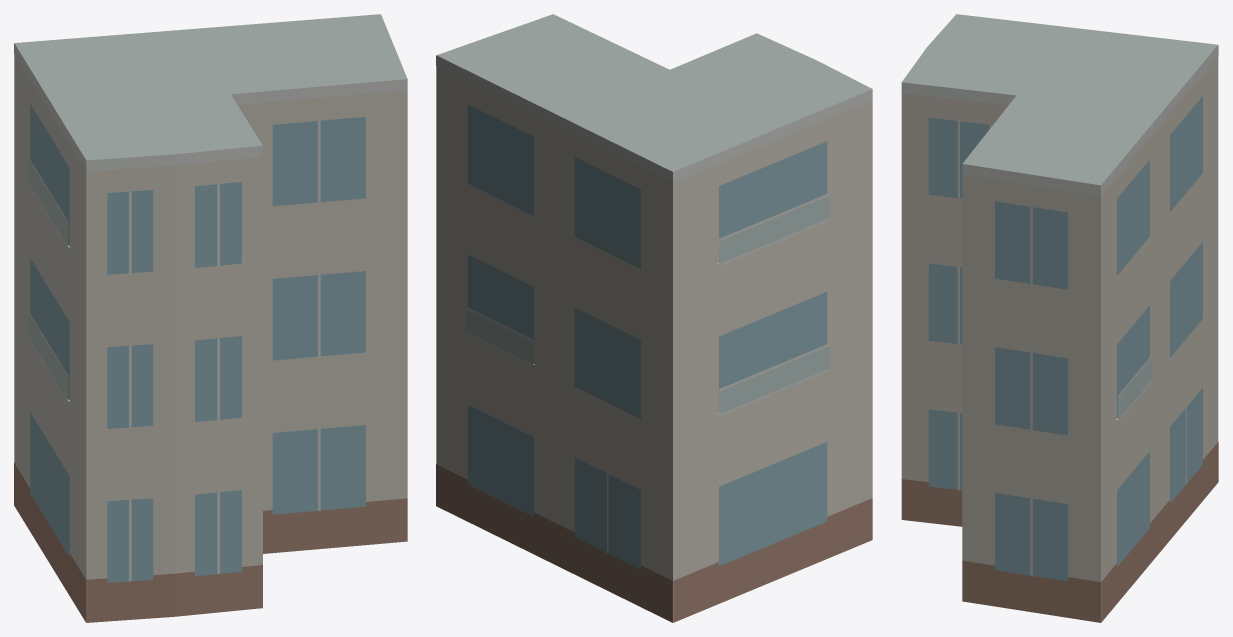
File: survey-upis-32471684.glb
The picture shows the model from 3 angles, left to right: view 1: azimuth 30°, elevation 25°; view 2: azimuth 150°, elevation 25°; view 3: azimuth 270°, elevation 25°; orthographic projection. The views are drawn at different scales.
Visible parts, largest first — view 1: survey-upis-32471684.tmp; view 2: survey-upis-32471684.tmp; view 3: survey-upis-32471684.tmp.
Boxes of the visible parts, x1=… form: survey-upis-32471684.tmp: x1=14, y1=14, x2=407, y2=622; survey-upis-32471684.tmp: x1=436, y1=14, x2=872, y2=622; survey-upis-32471684.tmp: x1=901, y1=14, x2=1218, y2=622.
Size of the model in its own units: 8.49 by 10.1 by 6.64.
